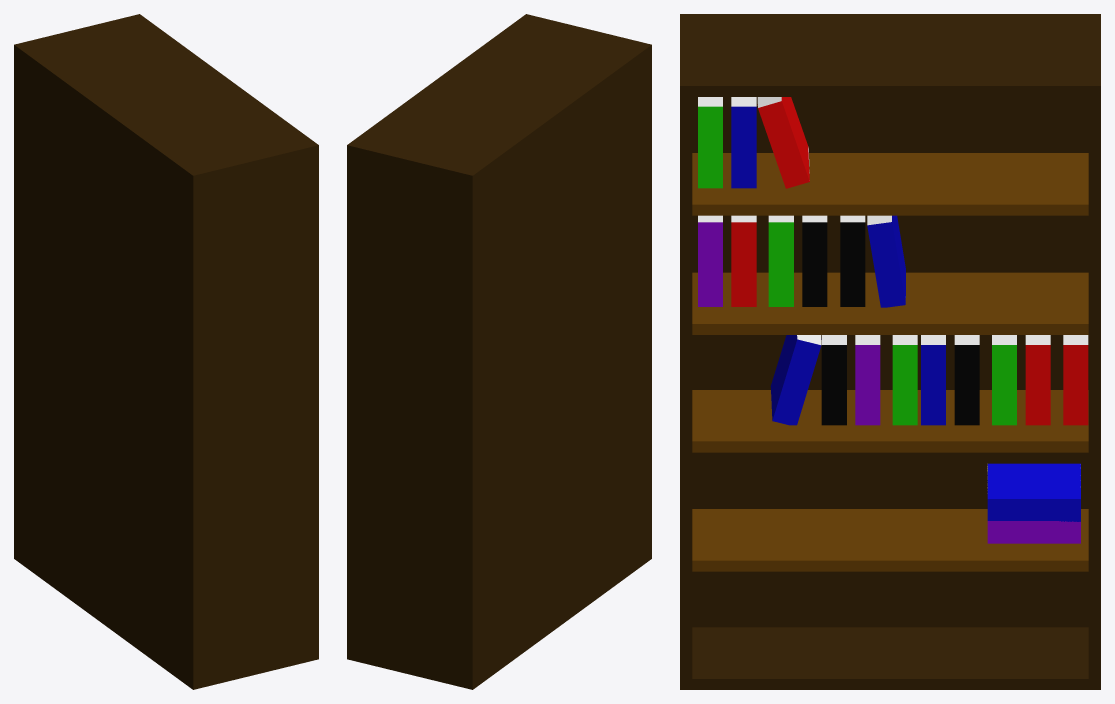
File: bookshelf.glb
The picture shows the model from 3 angles, left to right: view 1: azimuth 30°, elevation 25°; view 2: azimuth 150°, elevation 25°; view 3: azimuth 270°, elevation 25°; orthographic projection. The views are drawn at different scales.
Parts seen in each view (by area): view 1: 큐브.004; view 2: 큐브.004; view 3: 큐브.004.
Part boxes in pixels (bbox=[...]): 큐브.004: bbox=[14, 14, 318, 689]; 큐브.004: bbox=[347, 14, 651, 689]; 큐브.004: bbox=[680, 14, 1100, 689].
Bounding box in the file's own units: 7 × 27.34 × 17.27.
